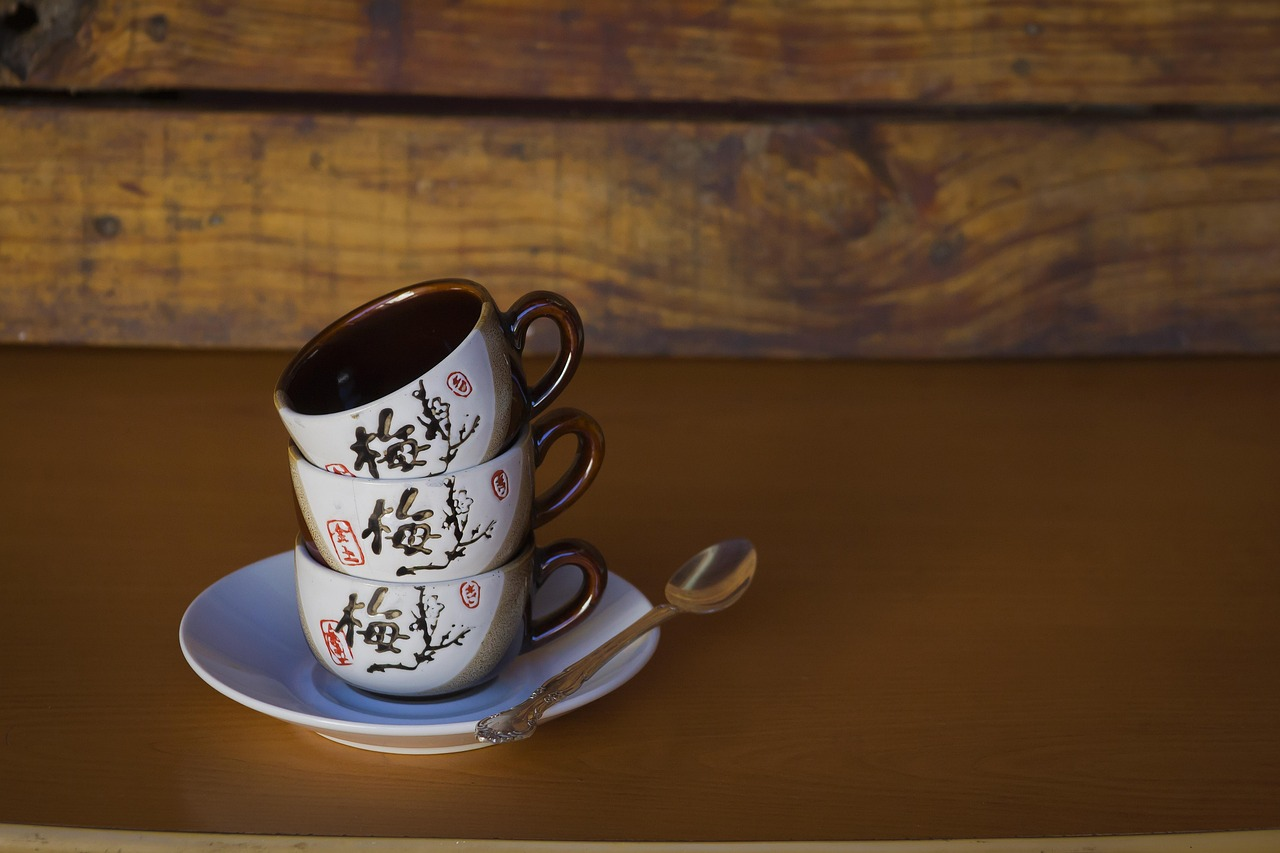mug: (210, 508, 666, 717), (248, 257, 604, 473), (244, 393, 639, 583)
